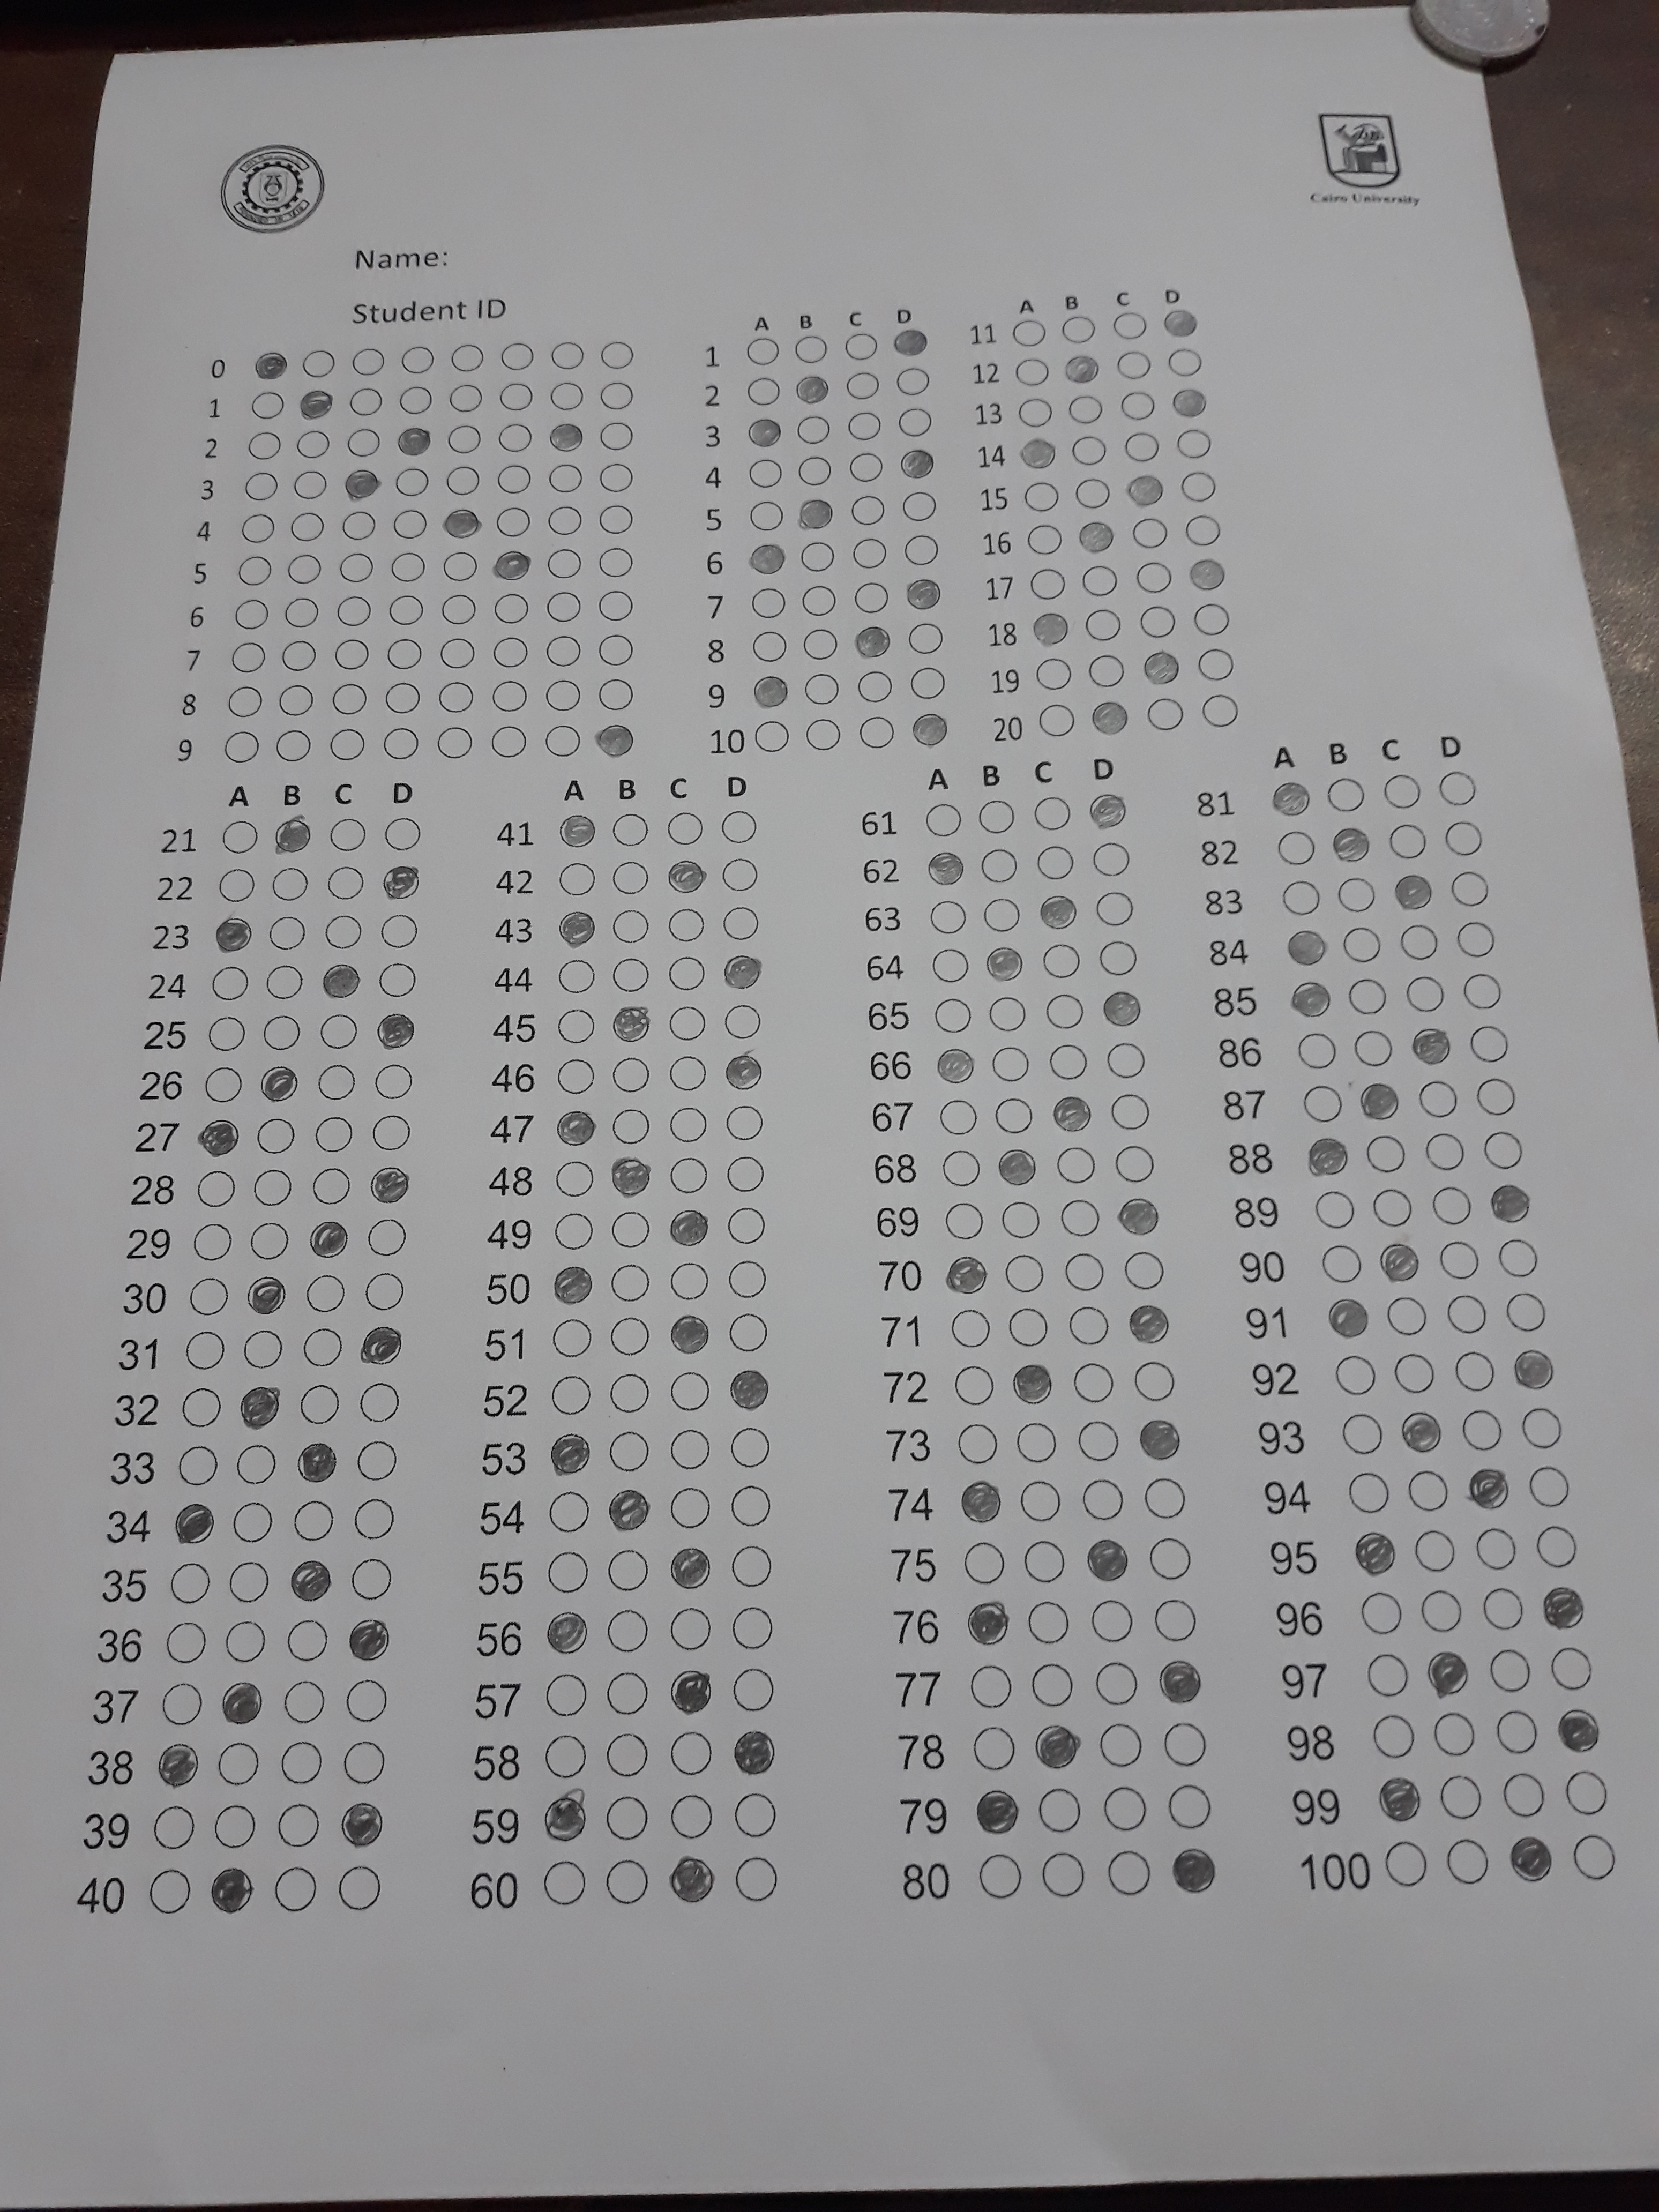not-c: (974, 1850, 1025, 1900), (1378, 1838, 1429, 1888), (1443, 1838, 1493, 1888), (1356, 1588, 1406, 1639), (730, 1853, 781, 1904), (666, 1728, 716, 1778), (601, 1731, 652, 1782), (599, 1667, 650, 1717), (542, 1669, 592, 1719), (275, 1737, 326, 1787), (221, 1615, 272, 1665), (338, 1737, 389, 1787), (333, 1862, 383, 1912), (349, 1494, 399, 1545), (1413, 1526, 1462, 1576), (1107, 1848, 1155, 1898), (1039, 1850, 1087, 1900), (1370, 1712, 1419, 1763), (1431, 1709, 1480, 1759), (1436, 1771, 1485, 1822), (1563, 1768, 1612, 1818), (1493, 1707, 1542, 1757), (1419, 1585, 1467, 1635), (603, 1857, 652, 1907), (730, 1789, 779, 1839), (666, 1792, 714, 1843), (603, 1792, 653, 1841), (272, 1864, 321, 1914), (728, 1665, 777, 1716), (728, 1602, 777, 1653), (666, 1604, 714, 1655), (603, 1606, 652, 1656), (605, 1545, 653, 1595), (544, 1547, 592, 1597), (971, 1724, 1019, 1775), (1025, 1658, 1073, 1709), (965, 1660, 1014, 1710), (1023, 1599, 1073, 1648), (1098, 1719, 1147, 1770), (1033, 1785, 1084, 1834), (274, 1799, 322, 1850), (162, 1618, 211, 1669), (282, 1616, 333, 1665), (343, 1674, 392, 1724), (279, 1674, 328, 1724), (213, 1799, 261, 1850), (150, 1803, 199, 1853), (214, 1740, 265, 1789), (1471, 1522, 1518, 1575), (1145, 1531, 1192, 1583), (1021, 1536, 1068, 1588), (960, 1536, 1007, 1588), (1101, 1784, 1150, 1832), (1161, 1721, 1209, 1770), (1166, 1784, 1215, 1832), (1499, 1770, 1547, 1818), (1570, 1832, 1619, 1881), (1364, 1651, 1413, 1700), (1488, 1646, 1537, 1695), (1546, 1644, 1595, 1693), (1478, 1585, 1527, 1634), (542, 1858, 591, 1907), (542, 1731, 591, 1780), (727, 1541, 775, 1590), (1089, 1595, 1138, 1644), (1150, 1597, 1199, 1646), (1093, 1658, 1141, 1707), (225, 1557, 274, 1606), (164, 1557, 213, 1606), (145, 1865, 193, 1914), (157, 1679, 206, 1728), (1535, 1522, 1582, 1573), (1344, 1465, 1391, 1515), (347, 1555, 397, 1602), (289, 1498, 340, 1545), (301, 1268, 352, 1315), (362, 1214, 413, 1261), (185, 1273, 235, 1320), (295, 1322, 345, 1369), (350, 1435, 401, 1482), (296, 1381, 347, 1428), (230, 1440, 281, 1487), (173, 1442, 223, 1489), (178, 1383, 228, 1430), (181, 1327, 232, 1374), (359, 1268, 410, 1313), (228, 1500, 279, 1545), (355, 1379, 404, 1425), (239, 1325, 288, 1371), (1525, 1465, 1572, 1510), (1333, 1353, 1378, 1397), (1312, 1186, 1358, 1230), (1422, 1129, 1467, 1172), (1504, 1291, 1549, 1334), (988, 1043, 1033, 1087), (552, 1157, 598, 1200), (608, 1104, 653, 1148), (1016, 1421, 1061, 1465), (667, 1486, 713, 1529), (606, 1371, 652, 1414), (549, 1313, 594, 1357), (992, 1094, 1035, 1137), (1108, 1089, 1152, 1132), (1521, 1407, 1565, 1451), (1392, 1352, 1436, 1395), (1385, 1294, 1429, 1338), (1364, 1130, 1408, 1174), (1300, 1082, 1344, 1125), (1453, 1350, 1497, 1393), (1429, 1184, 1473, 1228), (1495, 1237, 1539, 1280), (1481, 1129, 1525, 1172), (1474, 1075, 1518, 1118), (1467, 1021, 1511, 1064), (1351, 1028, 1394, 1071), (1295, 1028, 1338, 1071), (1103, 1038, 1147, 1082), (1046, 1040, 1089, 1083), (723, 1151, 767, 1195), (667, 1151, 711, 1195), (723, 1101, 767, 1144), (666, 1050, 709, 1094), (554, 1054, 598, 1097), (1406, 1470, 1450, 1514), (1340, 1413, 1384, 1456), (1143, 1477, 1187, 1521), (1077, 1418, 1121, 1461), (955, 1421, 999, 1465), (953, 1364, 997, 1407), (1072, 1360, 1115, 1404), (1006, 1305, 1049, 1348), (547, 1489, 591, 1533), (727, 1425, 770, 1468), (667, 1428, 711, 1472), (606, 1430, 650, 1474), (669, 1369, 713, 1413), (606, 1315, 650, 1359), (667, 1259, 711, 1303), (727, 1258, 770, 1301), (1068, 1303, 1112, 1346), (1002, 1254, 1046, 1298), (1063, 1249, 1107, 1292), (1060, 1197, 1103, 1240), (999, 1197, 1042, 1240), (1056, 1143, 1100, 1186), (943, 1198, 986, 1242), (939, 1146, 983, 1190), (1319, 1242, 1364, 1284), (1415, 1076, 1460, 1118), (723, 1205, 769, 1247), (1131, 1360, 1176, 1402), (549, 1374, 594, 1416), (608, 1263, 653, 1305), (1018, 1479, 1061, 1521), (554, 956, 598, 998), (1335, 873, 1378, 914), (936, 1096, 979, 1137), (1114, 1144, 1157, 1186), (1371, 1186, 1415, 1228), (1446, 1292, 1490, 1334), (1438, 1238, 1481, 1280), (608, 1209, 652, 1251), (552, 1211, 596, 1252), (666, 1104, 709, 1146), (610, 1054, 653, 1096), (556, 1005, 599, 1047), (1080, 1479, 1124, 1521), (1460, 1409, 1504, 1451), (950, 1308, 993, 1350), (728, 1484, 772, 1526), (727, 1312, 770, 1353), (1124, 1249, 1168, 1291), (314, 1061, 357, 1103), (376, 956, 420, 998), (1044, 991, 1089, 1031), (985, 993, 1030, 1033), (931, 995, 976, 1035), (1347, 977, 1392, 1017), (1378, 772, 1424, 812), (974, 798, 1019, 838), (718, 855, 763, 895), (666, 1003, 709, 1043), (720, 1000, 763, 1040), (666, 953, 709, 993), (610, 954, 653, 995), (608, 906, 652, 946), (666, 904, 709, 944), (718, 904, 762, 944), (931, 946, 974, 986), (1039, 941, 1082, 981), (1096, 937, 1140, 977), (1094, 888, 1138, 928), (929, 895, 972, 935), (981, 894, 1025, 934), (1089, 840, 1133, 880), (1033, 841, 1077, 881), (978, 846, 1021, 887), (1281, 878, 1324, 918), (1448, 867, 1492, 907), (1405, 974, 1448, 1014), (1399, 921, 1443, 961), (1460, 970, 1504, 1010), (1276, 827, 1319, 867), (1443, 819, 1486, 859), (1438, 768, 1481, 808), (1324, 773, 1368, 813), (1030, 794, 1073, 834), (608, 857, 652, 897), (554, 859, 598, 899), (716, 806, 760, 846), (664, 808, 708, 848), (608, 810, 652, 850), (204, 1014, 247, 1054), (251, 1167, 295, 1207), (195, 1169, 239, 1209), (192, 1223, 235, 1263), (249, 1221, 293, 1261), (369, 1113, 413, 1153), (324, 864, 368, 904), (380, 815, 423, 855), (267, 864, 310, 904), (209, 963, 253, 1003), (263, 963, 307, 1003), (321, 913, 364, 953), (265, 913, 308, 953), (1455, 921, 1500, 960), (1385, 820, 1431, 859), (312, 1113, 354, 1153), (256, 1116, 298, 1157), (312, 1165, 354, 1205), (373, 1062, 415, 1103), (378, 909, 420, 949), (328, 813, 369, 853), (214, 864, 256, 904), (218, 817, 260, 857), (202, 1064, 244, 1104), (317, 1012, 359, 1052), (260, 1012, 301, 1052), (1342, 925, 1385, 963), (922, 801, 965, 840), (436, 679, 476, 718), (380, 723, 420, 761), (382, 678, 422, 716), (491, 589, 532, 627), (437, 589, 477, 627), (805, 712, 845, 751), (856, 712, 896, 751), (1087, 651, 1127, 690), (542, 721, 582, 759), (328, 726, 369, 763), (542, 632, 584, 669), (488, 723, 528, 759), (331, 636, 371, 672), (329, 679, 369, 716), (441, 547, 481, 583), (389, 549, 429, 585), (596, 545, 636, 582), (596, 500, 636, 536), (545, 503, 586, 540), (340, 509, 380, 545), (596, 458, 636, 495), (547, 458, 587, 495), (495, 460, 535, 496), (443, 463, 483, 500), (392, 463, 432, 500), (272, 728, 312, 765), (275, 681, 315, 718), (279, 639, 319, 676), (281, 594, 321, 631), (223, 728, 263, 765), (225, 683, 265, 719), (434, 725, 474, 761), (751, 718, 791, 754), (596, 676, 636, 712), (596, 631, 636, 667), (490, 634, 530, 671), (436, 634, 476, 671), (383, 634, 423, 671), (594, 587, 634, 624), (544, 587, 584, 624), (385, 590, 425, 627), (751, 629, 791, 665), (802, 671, 842, 707), (856, 667, 896, 704), (910, 664, 950, 700), (1138, 604, 1178, 641), (1086, 608, 1126, 644), (1035, 655, 1075, 691), (1037, 702, 1077, 738), (1194, 601, 1234, 637), (1195, 644, 1236, 681), (1145, 695, 1185, 732), (1199, 691, 1239, 728), (544, 676, 584, 712), (490, 678, 530, 714), (545, 547, 586, 582), (392, 507, 432, 542), (338, 552, 378, 587), (495, 503, 535, 538), (284, 552, 324, 587), (288, 509, 328, 543), (227, 641, 267, 676), (232, 597, 272, 632), (1070, 432, 1110, 467), (232, 554, 274, 587), (237, 510, 279, 543), (446, 381, 488, 415), (239, 470, 281, 503), (345, 385, 387, 418), (298, 347, 340, 380), (1026, 523, 1065, 557), (1073, 475, 1112, 510), (746, 455, 784, 489), (796, 453, 835, 488), (847, 448, 885, 482), (1030, 566, 1068, 601), (1079, 564, 1117, 599), (1175, 427, 1213, 462), (1122, 428, 1161, 463), (1180, 469, 1218, 503), (1182, 512, 1220, 547), (1131, 516, 1169, 550), (1133, 559, 1171, 594), (899, 489, 938, 524), (849, 493, 887, 528), (901, 533, 939, 568), (852, 536, 890, 571), (852, 580, 890, 615), (906, 622, 945, 657), (802, 625, 840, 660), (798, 583, 836, 618), (749, 587, 788, 622), (796, 536, 835, 571), (748, 498, 786, 533), (446, 421, 486, 455), (497, 421, 537, 455), (495, 380, 535, 413), (343, 425, 383, 458), (244, 428, 284, 462), (596, 338, 636, 371), (547, 338, 587, 371), (448, 341, 488, 374), (397, 343, 437, 376), (596, 421, 638, 453), (596, 378, 638, 409), (547, 380, 589, 411), (289, 469, 331, 500), (396, 383, 437, 415), (293, 428, 335, 460), (247, 390, 289, 421), (349, 345, 390, 376), (1011, 317, 1049, 350), (1117, 388, 1155, 421), (1112, 310, 1150, 343), (1166, 345, 1204, 378), (843, 368, 882, 401), (795, 413, 833, 446), (744, 374, 782, 408), (843, 329, 882, 362), (791, 331, 829, 364), (744, 334, 782, 368), (1060, 312, 1098, 345), (1021, 479, 1060, 512), (497, 341, 537, 373), (1117, 348, 1154, 381), (847, 408, 884, 441), (896, 408, 934, 439), (894, 366, 932, 397), (1016, 399, 1054, 430), (1066, 394, 1105, 425), (1012, 355, 1051, 387)
taken-c: (1169, 1846, 1220, 1895), (667, 1855, 716, 1904), (1377, 1775, 1424, 1824), (209, 1867, 254, 1916), (1136, 1418, 1183, 1463), (1033, 1724, 1080, 1770), (1157, 1658, 1202, 1705), (1509, 1836, 1554, 1883), (1352, 1531, 1399, 1576), (964, 1601, 1011, 1646), (957, 1479, 1002, 1526), (1084, 1538, 1131, 1583), (1466, 1467, 1513, 1512), (667, 1545, 714, 1590), (605, 1487, 652, 1533), (547, 1432, 594, 1477), (286, 1557, 333, 1602), (295, 1440, 342, 1486), (667, 1669, 714, 1714), (732, 1731, 777, 1777), (976, 1789, 1021, 1834), (1424, 1651, 1469, 1696), (1556, 1707, 1601, 1752), (1540, 1585, 1586, 1630), (1398, 1409, 1443, 1454), (153, 1743, 199, 1789), (220, 1679, 265, 1724), (345, 1616, 390, 1662), (171, 1501, 216, 1547), (542, 1796, 587, 1841), (1488, 1181, 1535, 1224), (1410, 1024, 1457, 1068), (1009, 1364, 1056, 1407), (1324, 1296, 1371, 1339), (1375, 1242, 1422, 1285), (993, 1144, 1040, 1188), (979, 942, 1028, 984), (1328, 824, 1377, 866), (1126, 1303, 1171, 1346), (342, 1803, 387, 1846), (545, 1611, 591, 1655), (1305, 1137, 1352, 1179), (1358, 1082, 1405, 1123), (1288, 979, 1335, 1021), (1507, 1348, 1554, 1390), (943, 1252, 990, 1294), (1115, 1197, 1162, 1238), (1049, 1094, 1096, 1136), (1096, 989, 1143, 1031), (932, 1047, 981, 1087), (1033, 892, 1082, 932), (1391, 873, 1439, 913), (1283, 928, 1330, 968), (727, 1369, 770, 1411), (551, 1264, 594, 1306), (667, 1312, 711, 1353), (667, 1207, 711, 1249), (308, 1219, 352, 1261), (368, 1165, 411, 1207), (258, 1062, 301, 1104), (720, 1052, 763, 1092), (237, 1386, 281, 1426), (359, 1325, 403, 1366), (610, 1158, 653, 1198), (244, 1275, 288, 1315), (197, 1118, 240, 1158), (1087, 700, 1131, 738), (373, 1012, 416, 1050), (554, 1109, 598, 1148), (903, 575, 943, 613), (925, 850, 965, 887), (556, 812, 596, 848), (1089, 792, 1129, 829), (594, 721, 634, 758), (493, 547, 533, 583), (340, 465, 380, 502), (394, 423, 434, 460), (249, 348, 289, 385), (612, 1007, 652, 1043), (558, 909, 598, 946), (382, 864, 422, 900), (274, 817, 314, 853), (1143, 650, 1182, 686), (910, 712, 950, 747), (1030, 611, 1070, 646), (1187, 557, 1227, 592), (1272, 782, 1312, 817), (666, 860, 706, 895), (753, 674, 793, 709), (441, 505, 481, 540), (295, 387, 335, 421), (721, 954, 762, 989), (319, 963, 359, 998), (214, 918, 254, 953), (890, 326, 929, 359), (791, 373, 829, 406), (746, 416, 782, 449), (1079, 521, 1115, 554), (1021, 437, 1058, 470), (1171, 387, 1208, 420), (1161, 307, 1197, 340), (796, 498, 835, 529), (897, 448, 936, 479), (1063, 354, 1101, 385), (749, 543, 786, 575), (547, 421, 584, 453), (1127, 474, 1164, 505)
